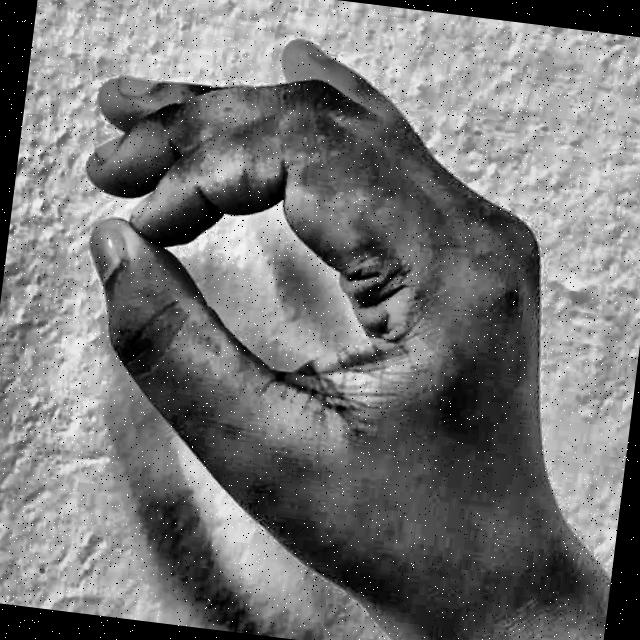Yo: (10, 0, 627, 640)
